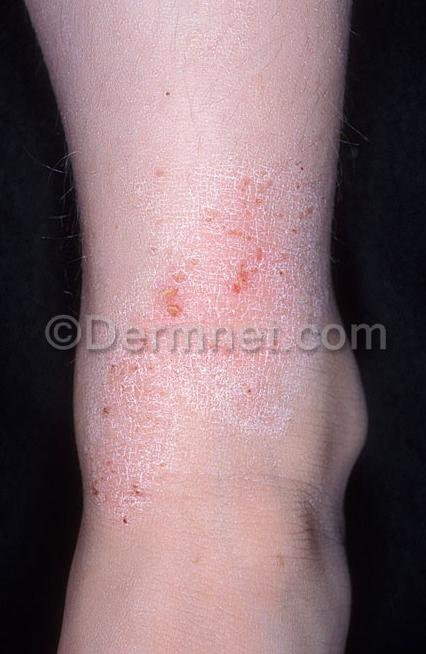excoriacion 2: (97, 153, 311, 502)
exudacion 1: (91, 170, 328, 501)
xerosis 1: (80, 166, 334, 530)
